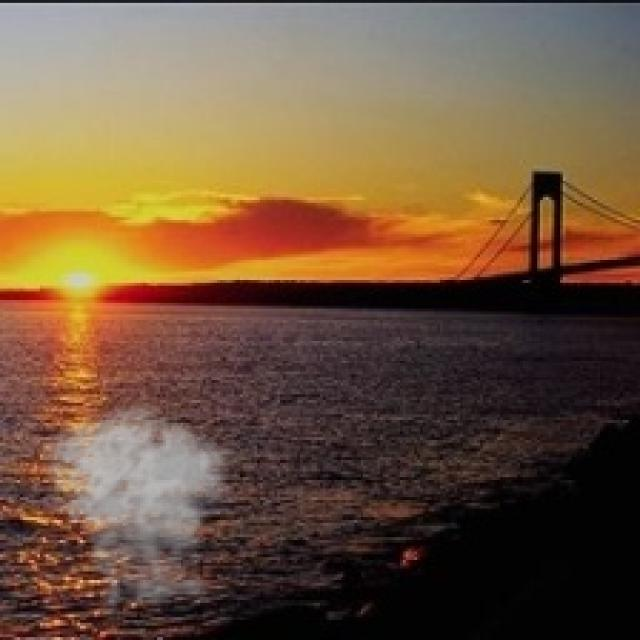Smoke: (37, 403, 246, 620)
